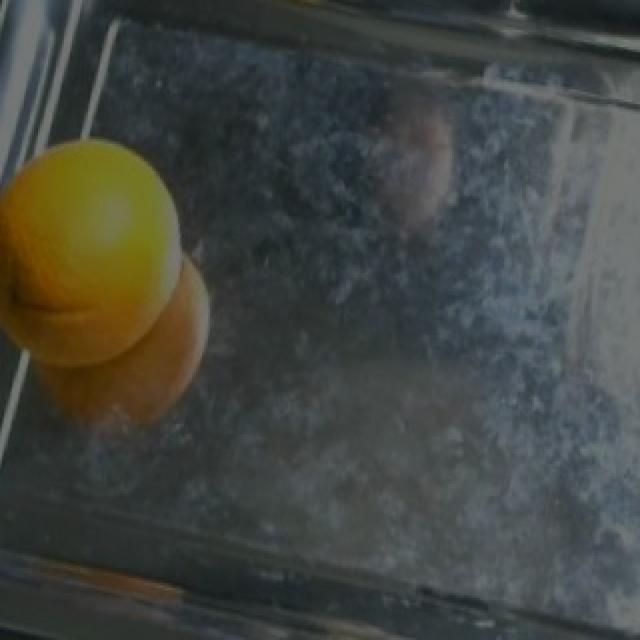Fruit: (0, 116, 196, 406)
